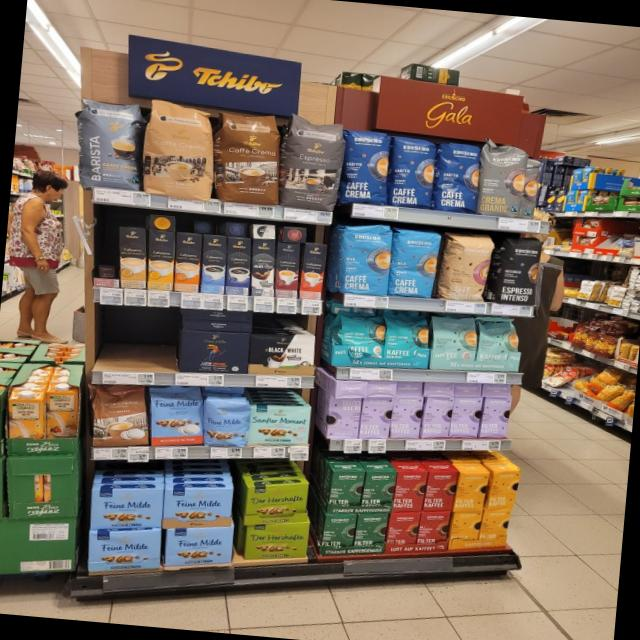BW Gemahlen: (248, 332, 318, 378)
Barista CC: (68, 92, 149, 192)
CC Mild: (138, 96, 222, 200)
CC Vollmundig: (83, 384, 153, 451)
CC Vollmundig 36 Pads: (209, 108, 284, 206)
Empty Shelf: (92, 312, 179, 372), (92, 225, 119, 278)
Espresso Aromatisch: (276, 109, 348, 213)
FM 36 Pads: (142, 385, 208, 451)
FM Bohne: (200, 396, 252, 450)
FM Gemahlen: (89, 488, 164, 531), (89, 529, 161, 571), (162, 488, 234, 528), (166, 524, 234, 566)
Herzhatfe Mundig: (244, 483, 310, 525), (244, 521, 311, 560)
LG Gemahlen: (176, 328, 252, 377)
SM Gemahlen: (246, 402, 313, 448)
Simo CCMild bigpack: (146, 230, 177, 292)
Simo CCVollmundig bigpack: (172, 231, 203, 292)
Simo Decaff: (119, 226, 146, 289)
Simo Es Brazil: (299, 242, 326, 300)
Simo Es Caramel: (272, 240, 301, 300)
Simo Es Elegant: (248, 239, 278, 297)
Simo Es Kraft: (225, 236, 252, 296)
Simo Es Vanilla: (200, 234, 228, 294)
